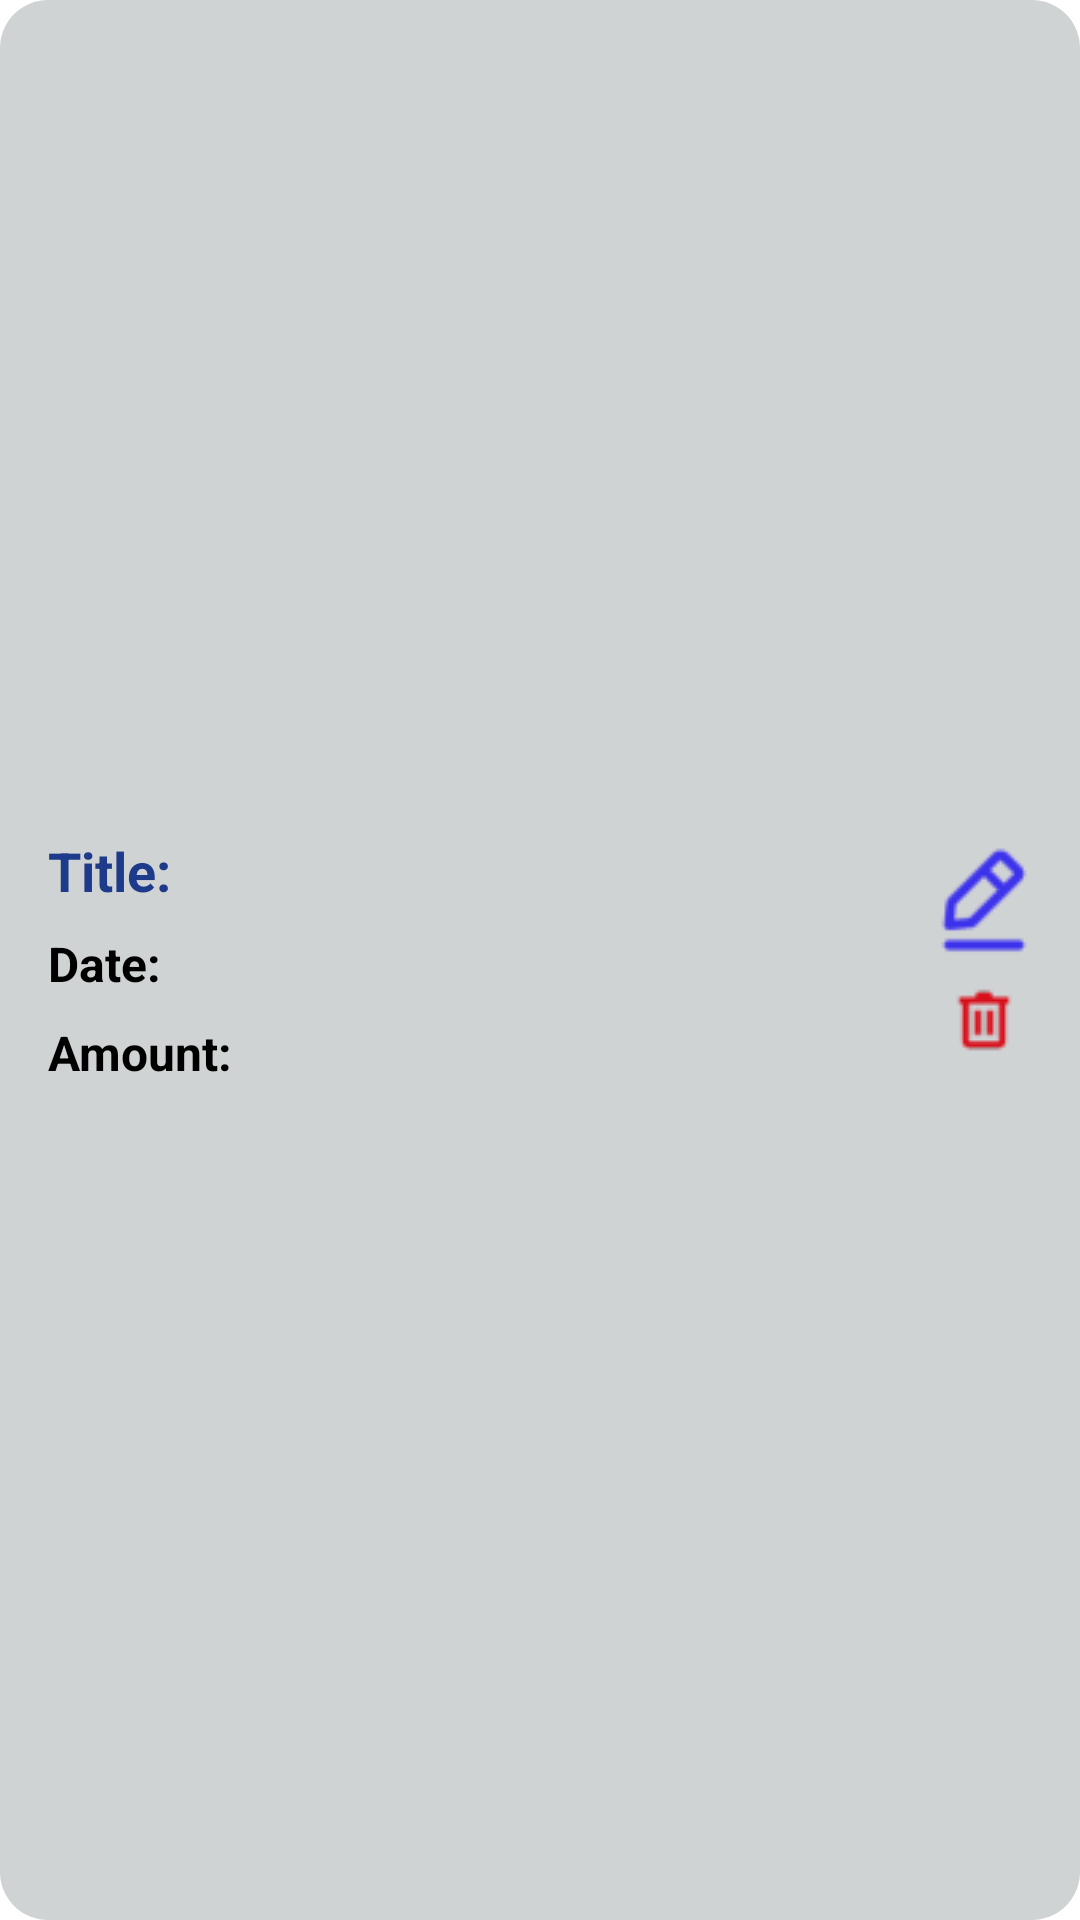

Icon click points for this 1080 x 1920 phone screenshot, format (x=x, y=y):
Delete: (x=984, y=1020)
Edit: (x=984, y=900)
